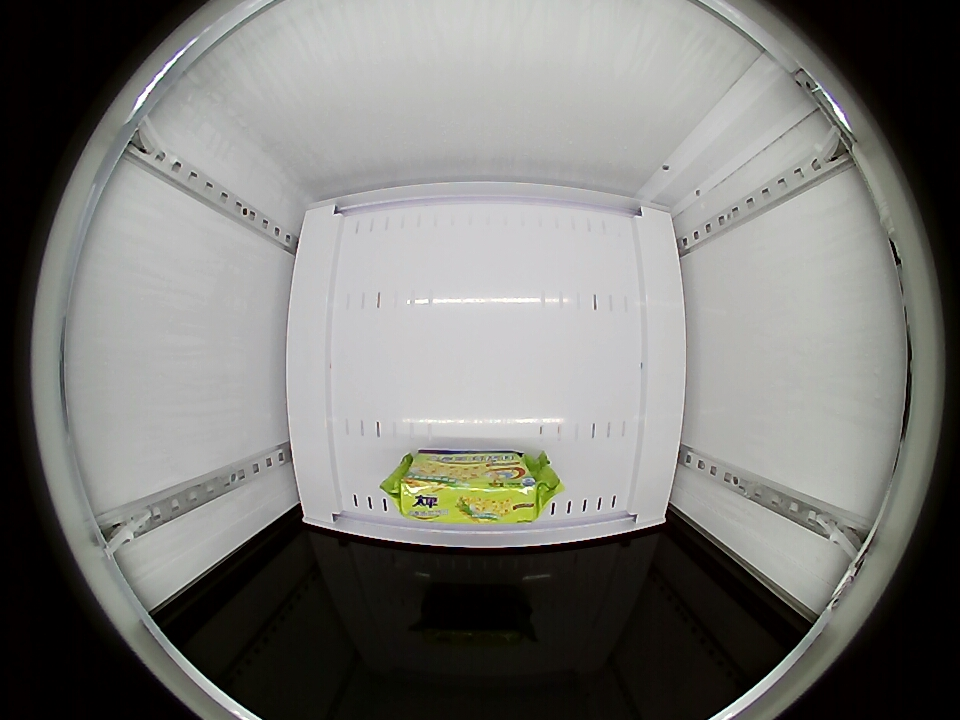taipingshuda: (394, 461, 546, 524)
